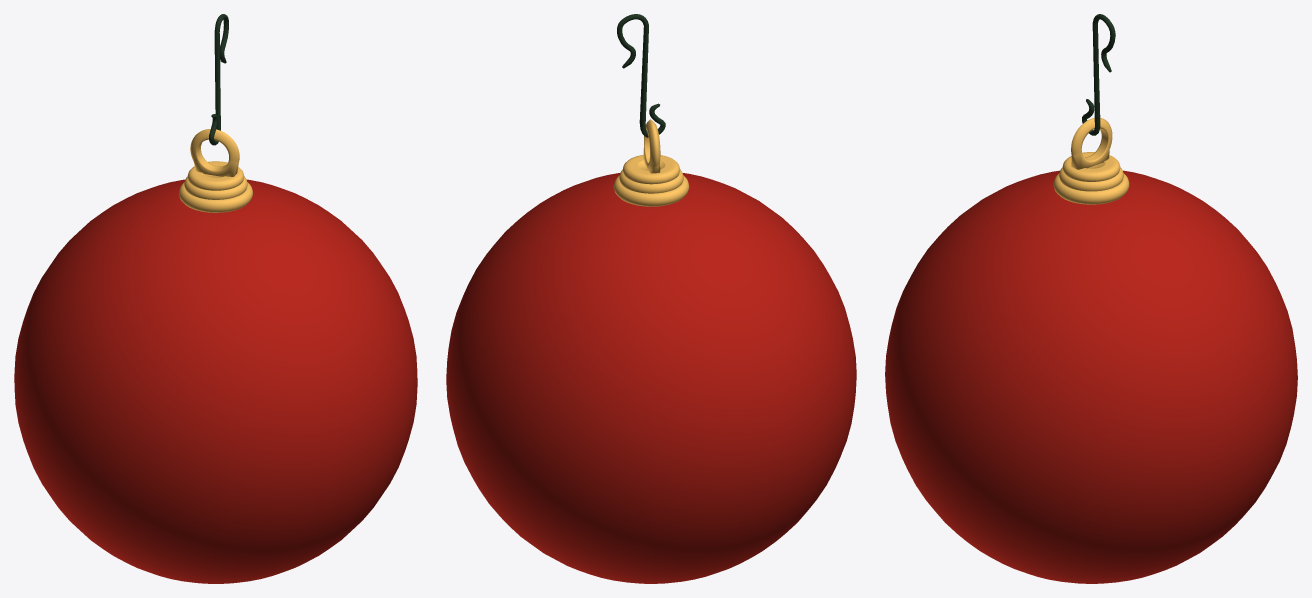
Rendered from christmas-red-ball.glb.
3 renders of one model, left to right at view 1: azimuth 30°, elevation 25°; view 2: azimuth 150°, elevation 25°; view 3: azimuth 270°, elevation 25°, orthographic. The views are drawn at different scales.
Parts seen in each view (by area): view 1: Pallina_natalizia_01, Gancetto_palline_natalizie_01; view 2: Pallina_natalizia_01, Gancetto_palline_natalizie_01; view 3: Pallina_natalizia_01, Gancetto_palline_natalizie_01.
Boxes of the visible parts, x1,y1,x2,y2 form: Pallina_natalizia_01: (14, 129, 417, 583); Gancetto_palline_natalizie_01: (209, 14, 228, 145); Pallina_natalizia_01: (446, 119, 856, 583); Gancetto_palline_natalizie_01: (617, 14, 665, 137); Pallina_natalizia_01: (885, 118, 1297, 583); Gancetto_palline_natalizie_01: (1082, 14, 1115, 135).
Size of the model in its own units: 0.1194 by 0.1774 by 0.1194.
